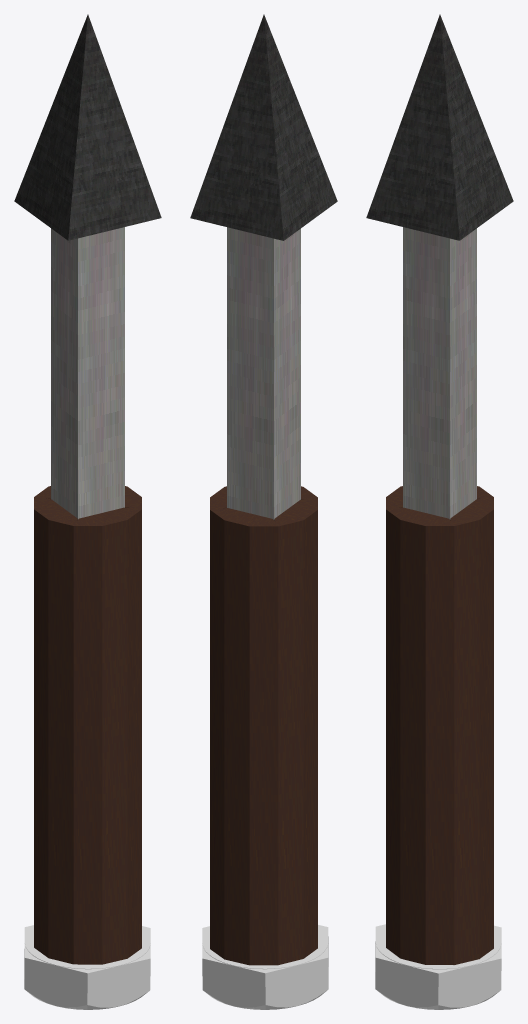
File: cheese.glb
3 renders of one model, left to right at view 1: azimuth 30°, elevation 25°; view 2: azimuth 150°, elevation 25°; view 3: azimuth 330°, elevation 25°, orthographic.
Parts seen in each view (by area): view 1: tube, cuboid, pyramid-col, Bolt; view 2: tube, cuboid, pyramid-col, Bolt; view 3: tube, cuboid, pyramid-col, Bolt.
Part boxes in pixels (x1,y1,x2,y2): tube: [34, 486, 141, 964]; cuboid: [51, 227, 124, 519]; pyramid-col: [14, 14, 161, 240]; Bolt: [24, 925, 150, 1009]; tube: [210, 486, 317, 965]; cuboid: [227, 227, 300, 519]; pyramid-col: [190, 14, 337, 240]; Bolt: [202, 925, 328, 1009]; tube: [386, 486, 493, 964]; cuboid: [403, 227, 476, 519]; pyramid-col: [366, 14, 513, 240]; Bolt: [375, 924, 501, 1009].
Size of the model in its own units: 0.3375 by 2.48 by 0.2917.
Materials: 3 (3 with a texture image).
